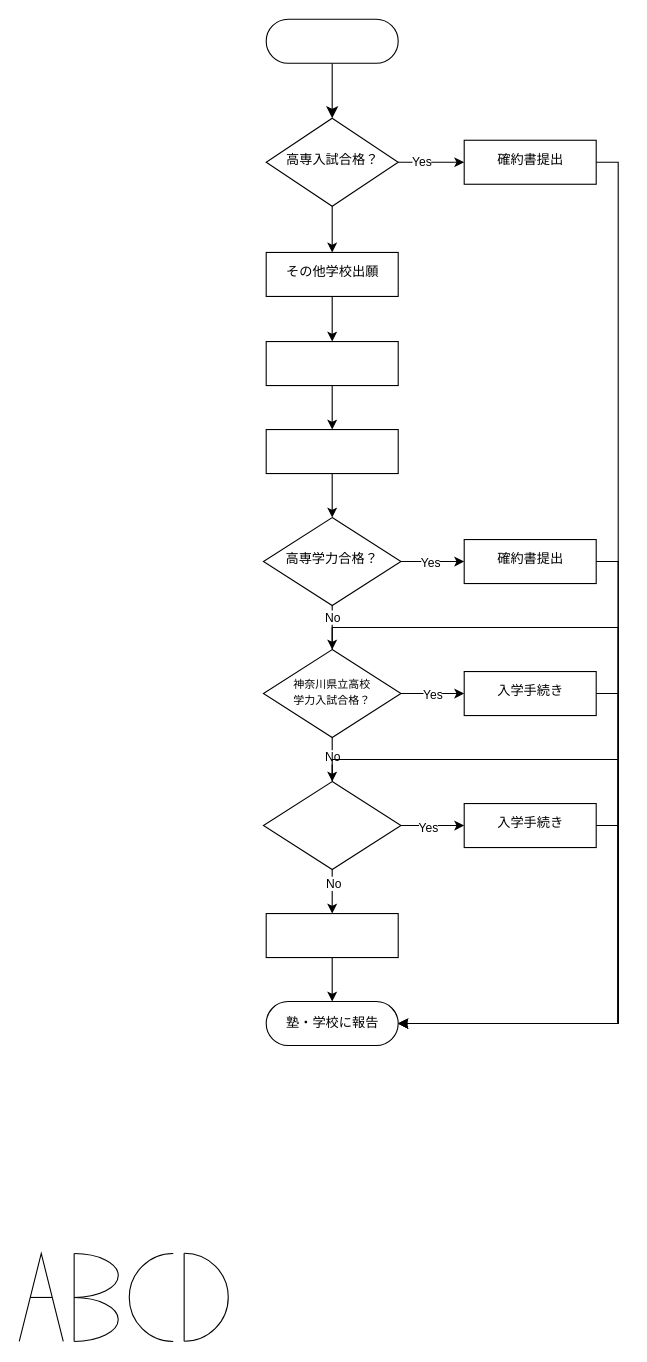
The diagram is 647 pixels wide and 1362 high, and some of its shapes have lost their labels. Here are the shapes that lost their labels. From the top down, the centre of each, then its label:
pixel 331 40: 東京高専推薦入試
pixel 331 363: （工学院大学附属高等学校学力受験）
pixel 331 451: 神奈川県立高校学力入試
pixel 331 825: 桐蔭(工学院) 合格？
pixel 331 935: 相談
